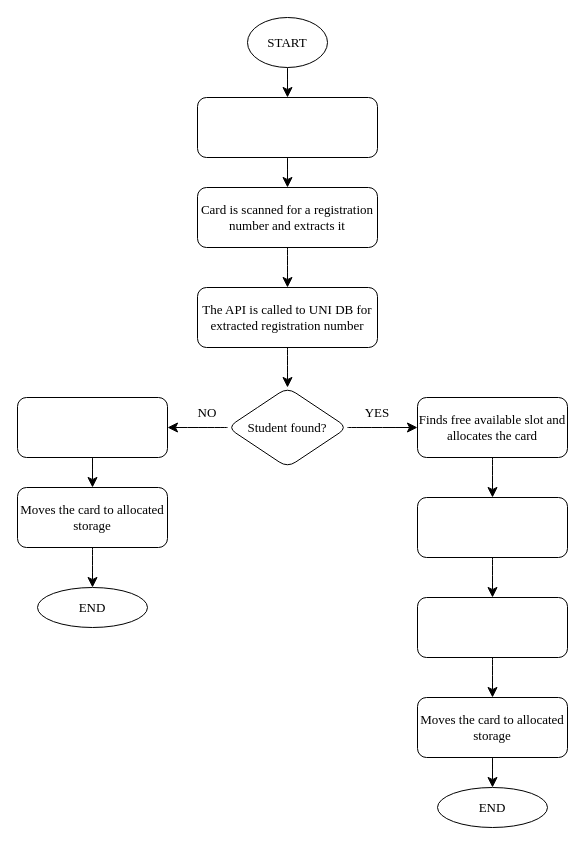
This 585x845 diagram has some shape labels left out. Here are the shapes that lost their labels. From the top down, the box of each, then its label:
(196, 96, 378, 158): Staff puts pre-printed card in the kiosk
(16, 396, 168, 458): Allocates the card into 3rd slot (error slot)
(416, 496, 568, 558): Creates the OTP and temporary PIN to attach to SMS and email
(416, 596, 568, 658): Sends SMS and email to the student through API information
